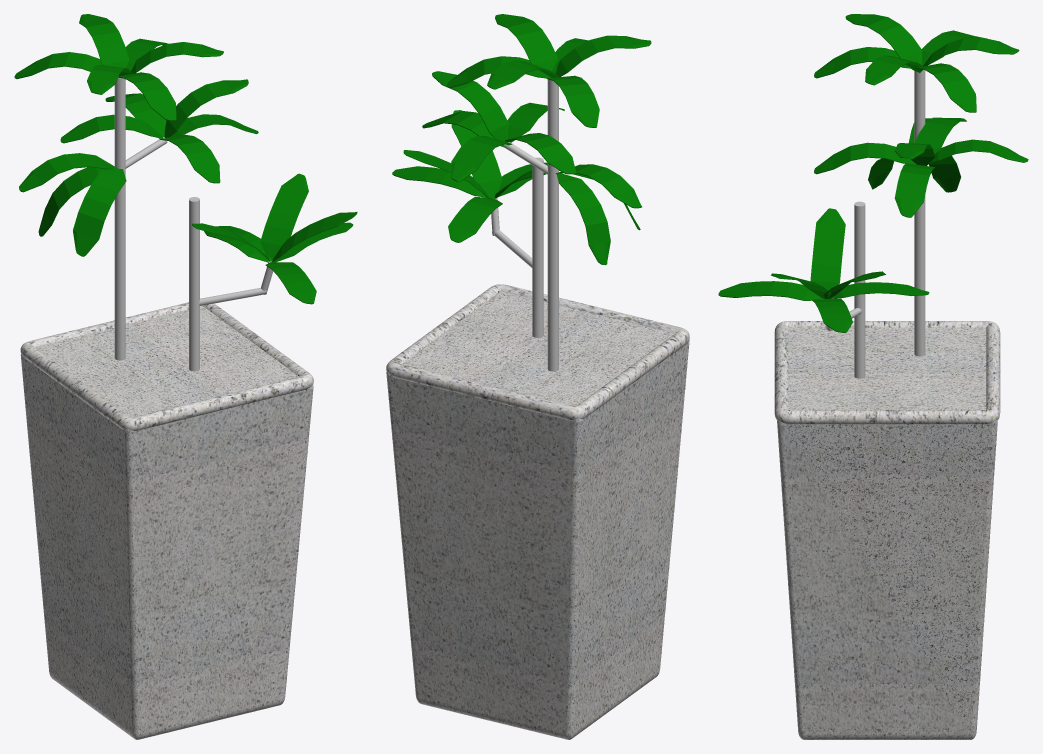
Rendered from plantpotwip.fbx.
The picture shows the model from 3 angles, left to right: view 1: azimuth 30°, elevation 25°; view 2: azimuth 150°, elevation 25°; view 3: azimuth 270°, elevation 25°; orthographic projection. The views are drawn at different scales.
Visible parts, largest first — view 1: Cube, Cylinder.002, Cylinder.004, Cube.009, Cube.006, Cylinder, Cube.021, Cube.008, Cube.011, Cube.010, Cube.012, Cube.016 (+11 smaller); view 2: Cube, Cylinder.002, Cylinder.004, Cylinder, Cube.010, Cube.011, Cube.019, Cube.018, Cube.020, Cube.003, Cube.013, Cube.008 (+9 smaller); view 3: Cube, Cylinder.002, Cylinder.004, Cube.005, Cylinder, Cube.020, Cube.015, Cube.002, Cube.017, Cube.012, Cube.016, Cube.013 (+9 smaller).
Part boxes in pixels (x1=…): Cube: x1=20, y1=306, x2=313, y2=739; Cylinder.002: x1=20, y1=302, x2=313, y2=430; Cylinder.004: x1=114, y1=77, x2=125, y2=360; Cube.009: x1=73, y1=167, x2=126, y2=256; Cube.006: x1=260, y1=173, x2=308, y2=260; Cylinder: x1=189, y1=197, x2=199, y2=371; Cube.021: x1=79, y1=14, x2=129, y2=68; Cube.008: x1=19, y1=153, x2=114, y2=192; Cube.011: x1=164, y1=79, x2=248, y2=137; Cube.010: x1=38, y1=167, x2=109, y2=236; Cube.012: x1=160, y1=134, x2=220, y2=183; Cube.016: x1=118, y1=72, x2=176, y2=120; Cube: x1=386, y1=291, x2=689, y2=739; Cylinder.002: x1=386, y1=284, x2=689, y2=420; Cylinder.004: x1=547, y1=79, x2=558, y2=371; Cylinder: x1=532, y1=157, x2=543, y2=337; Cube.010: x1=556, y1=173, x2=610, y2=265; Cube.011: x1=432, y1=71, x2=508, y2=145; Cube.019: x1=495, y1=14, x2=557, y2=71; Cube.018: x1=547, y1=75, x2=599, y2=127; Cube.020: x1=555, y1=35, x2=651, y2=77; Cube.003: x1=448, y1=196, x2=502, y2=242; Cube.013: x1=451, y1=136, x2=512, y2=181; Cube.008: x1=555, y1=164, x2=641, y2=208; Cube: x1=777, y1=327, x2=997, y2=739; Cylinder.002: x1=774, y1=321, x2=1000, y2=424; Cylinder.004: x1=914, y1=69, x2=925, y2=356; Cube.005: x1=810, y1=208, x2=845, y2=290; Cylinder: x1=854, y1=201, x2=865, y2=378; Cube.020: x1=845, y1=14, x2=922, y2=65; Cube.015: x1=894, y1=163, x2=935, y2=217; Cube.002: x1=718, y1=281, x2=823, y2=300; Cube.017: x1=915, y1=63, x2=976, y2=112; Cube.012: x1=814, y1=142, x2=916, y2=174; Cube.016: x1=814, y1=47, x2=912, y2=78; Cube.013: x1=928, y1=139, x2=1028, y2=163.
Size of the model in its own units: 45.3 by 97.01 by 41.94.
